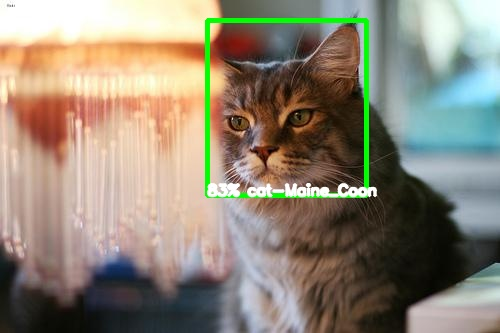cat-Maine_Coon: (217, 25, 359, 194)
